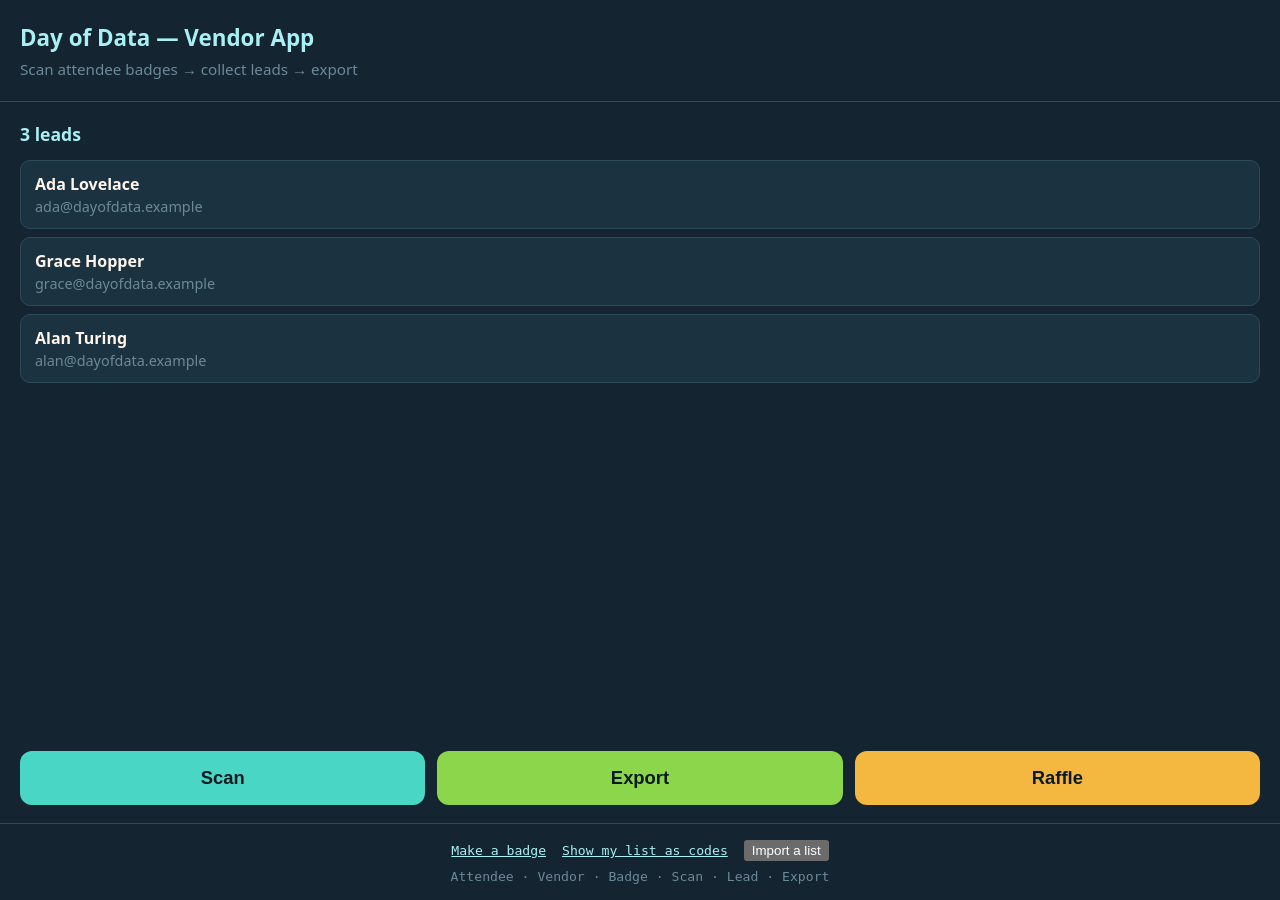
Scenario: Raffle flow › reveals the random-chosen winning Lead (name + email) after the roll when Raffle is tapped
Click the button "Raffle".
click(1057, 778)  # box [855, 751, 1260, 805]
Wait 3000 ms
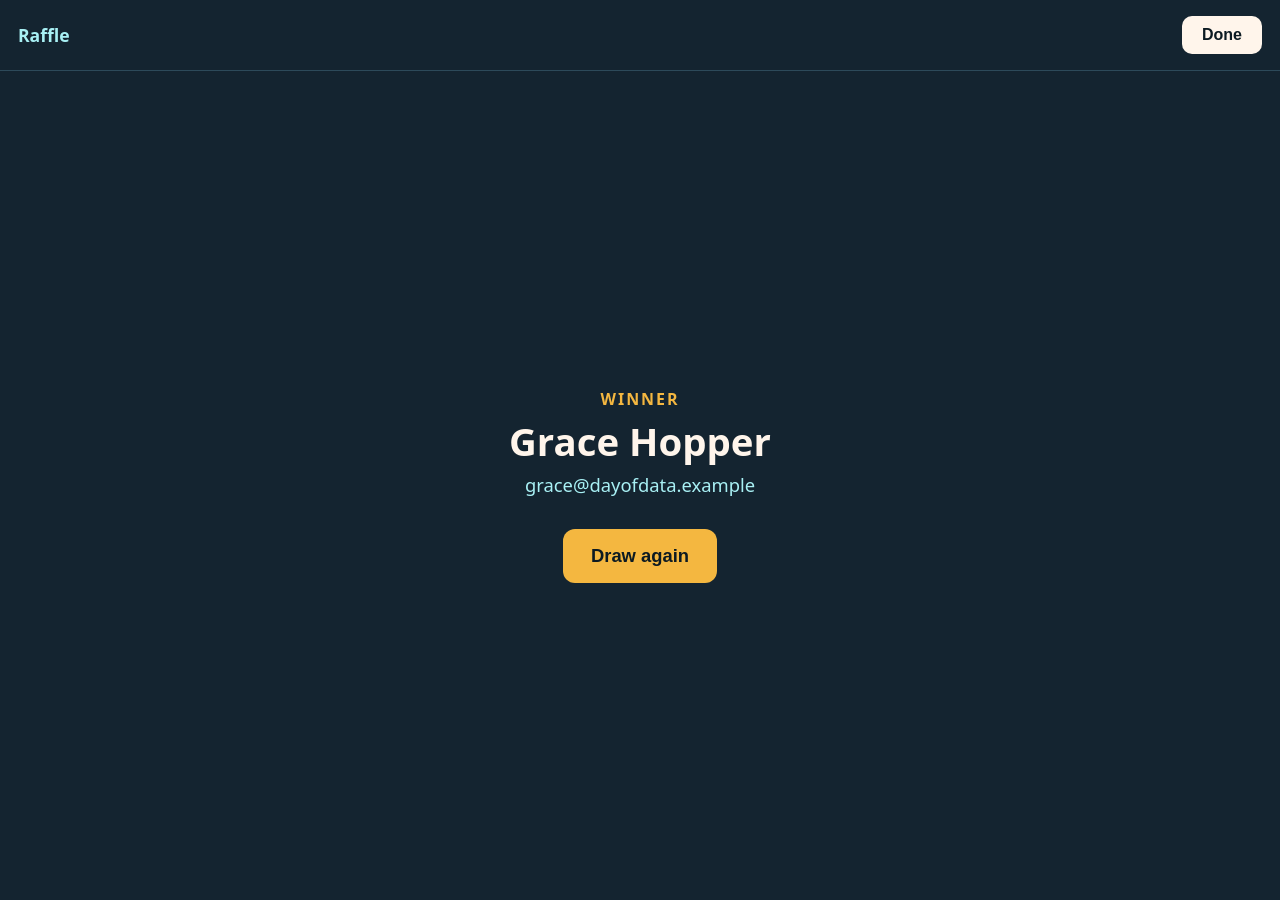
Expected: the element with test id "raffle-overlay" shows "Grace Hopper", [509, 415, 771, 467]
Expected: the element with test id "raffle-overlay" shows "grace@dayofdata.example", [525, 472, 755, 497]
